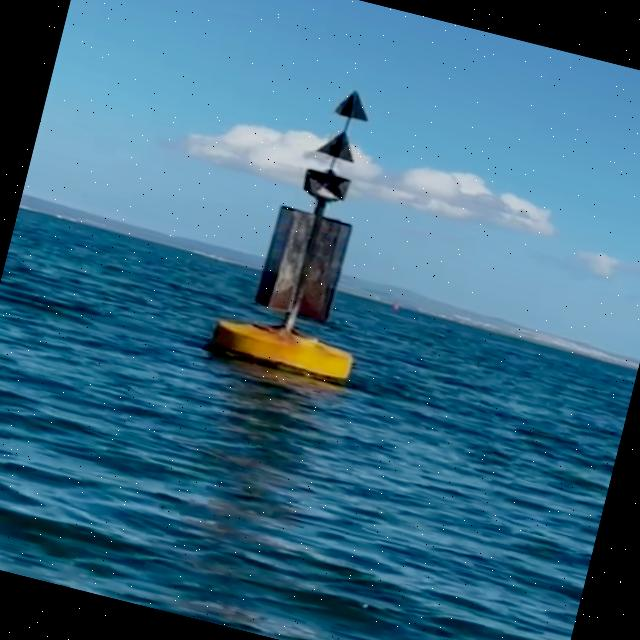marque: (208, 68, 422, 396)
